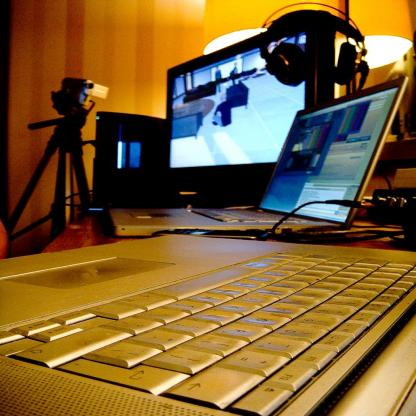board: (0, 236, 415, 415), (106, 74, 407, 236)
